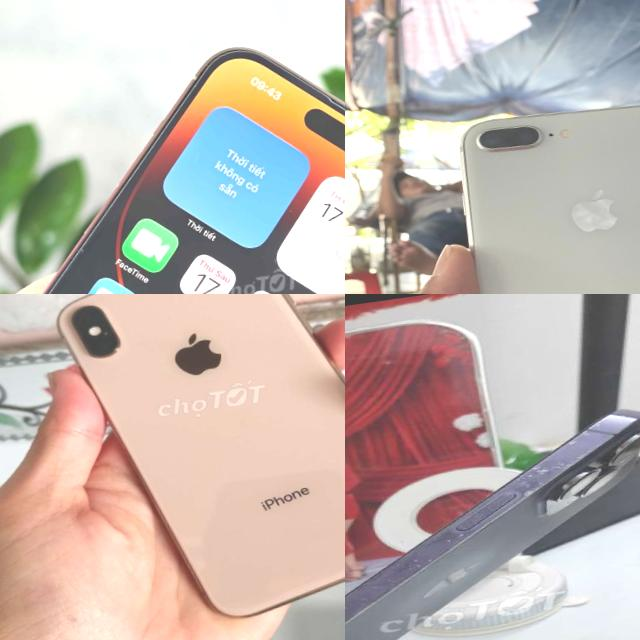gen_14: (0, 9, 345, 294), (345, 405, 640, 640)
gen_7_8: (448, 86, 640, 294)
gen_x_xs: (59, 294, 345, 616)
scratch: (464, 415, 640, 514), (358, 518, 488, 605)
